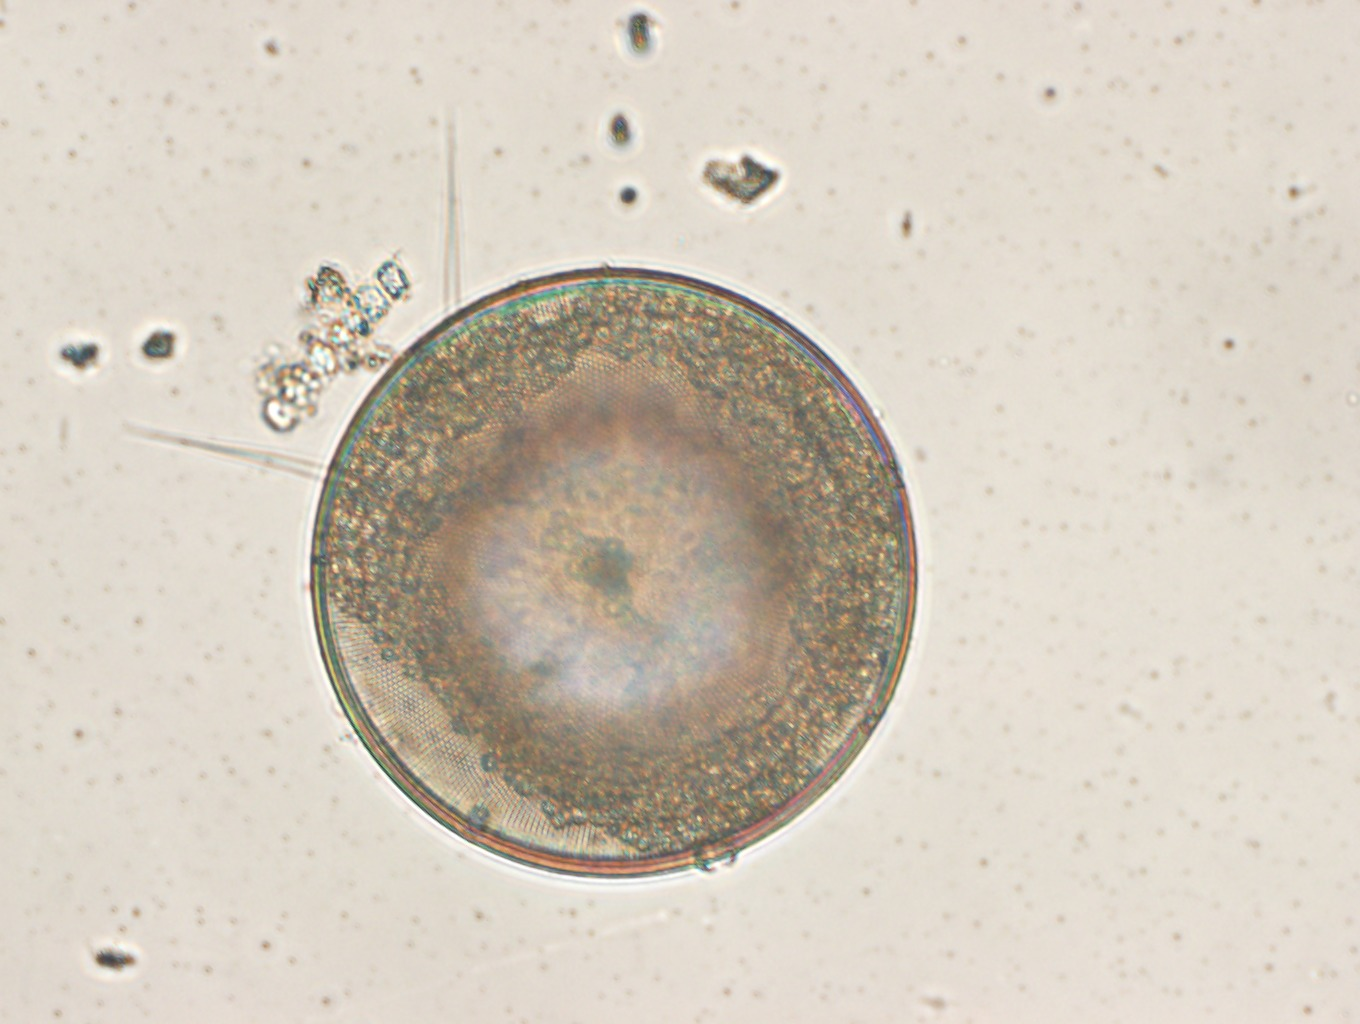coscinodiscus: (307, 266, 917, 877)
